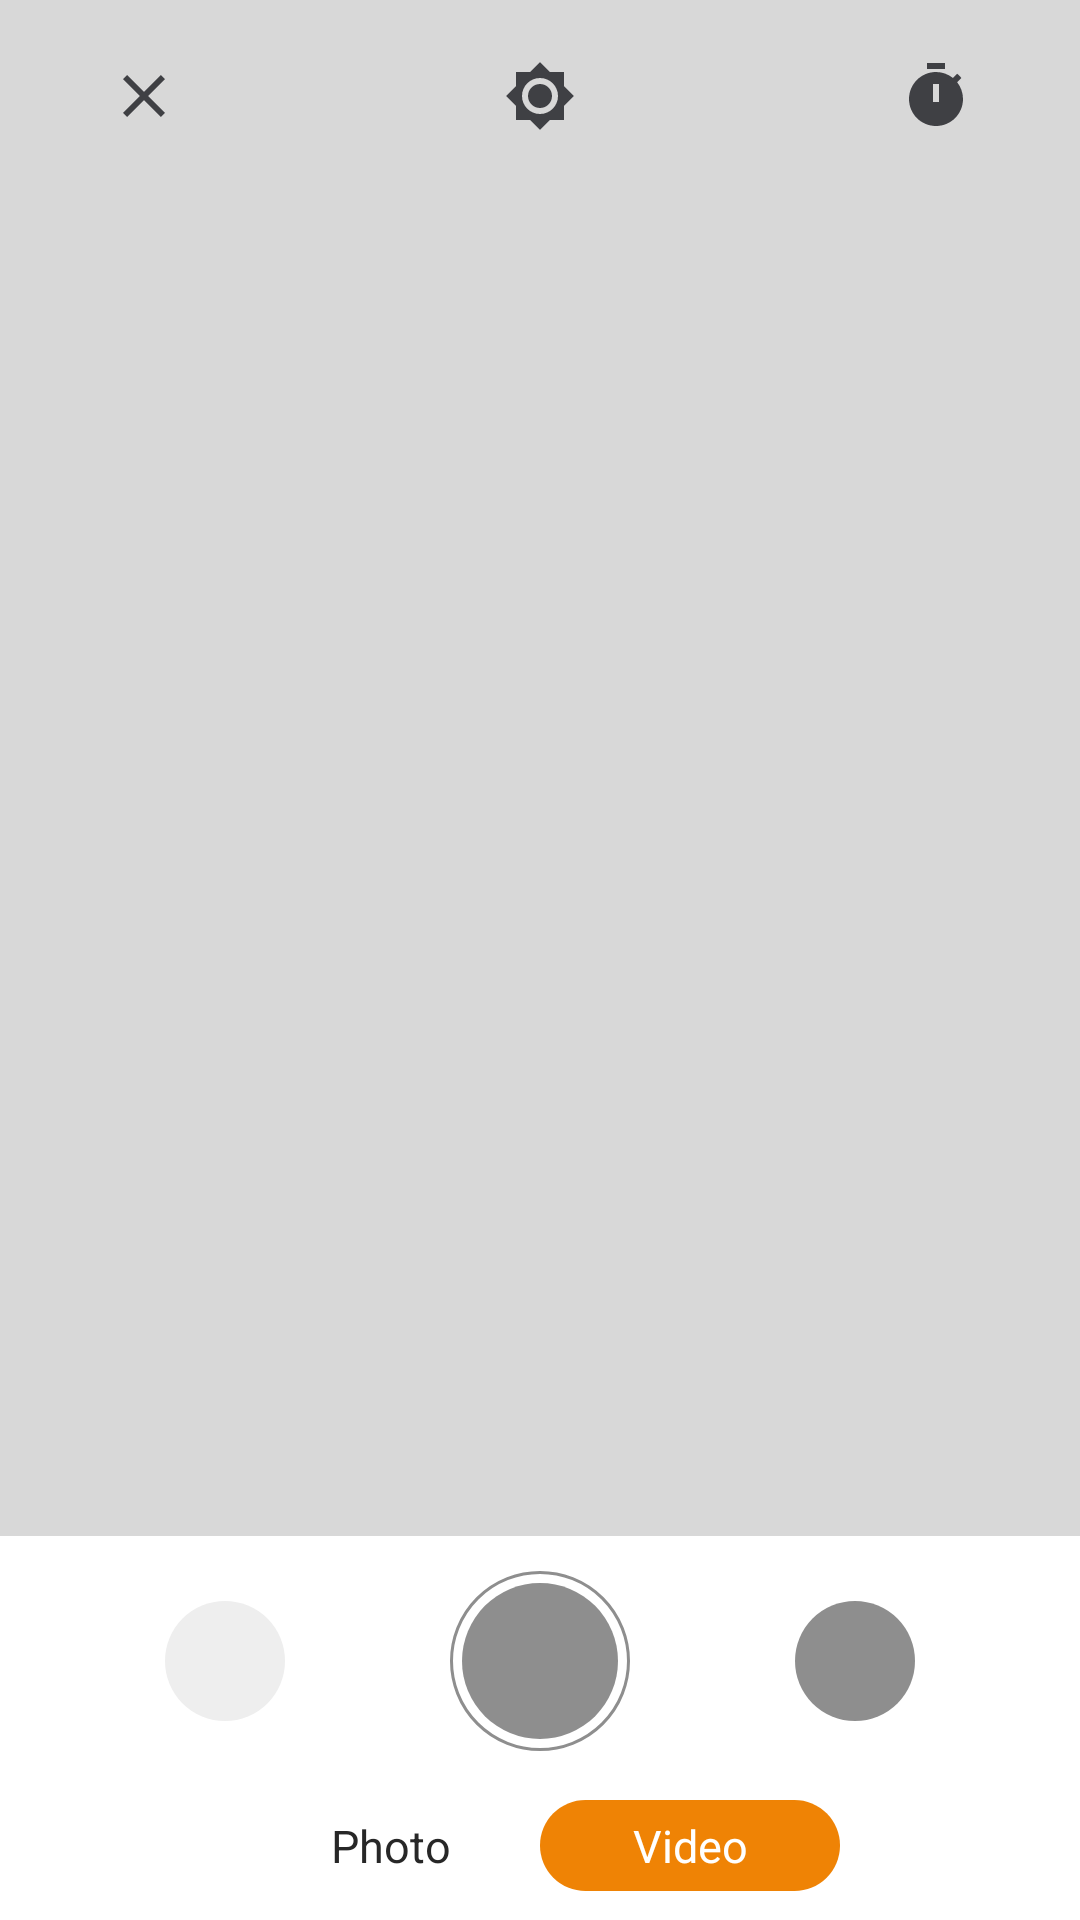

Icons on this 1080x1920 Android screen, each with its box as bbox=(x1, y1, x2, y2):
brightness: bbox=(506, 62, 574, 130)
camera capture: bbox=(450, 1571, 630, 1751)
close: bbox=(123, 75, 165, 117)
timer: bbox=(909, 63, 963, 126)
